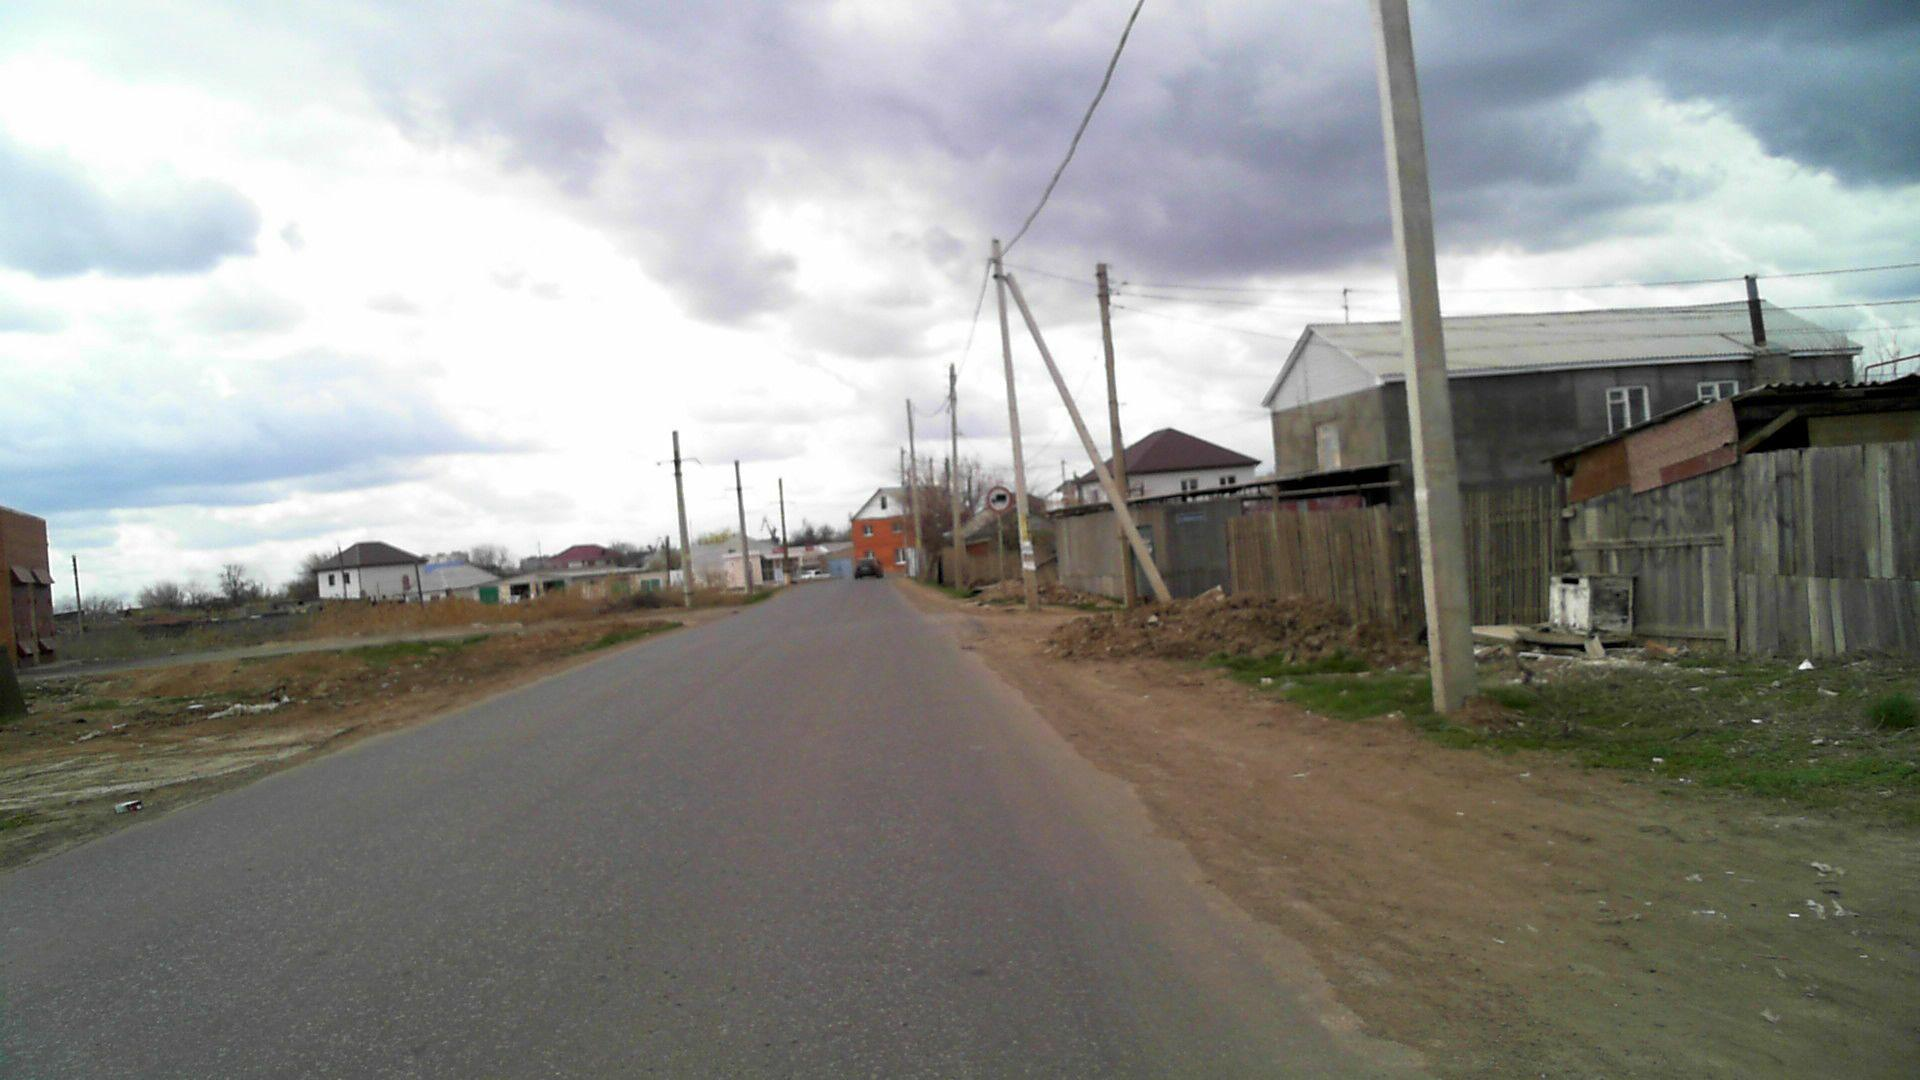3_4: (986, 484, 1011, 512)
